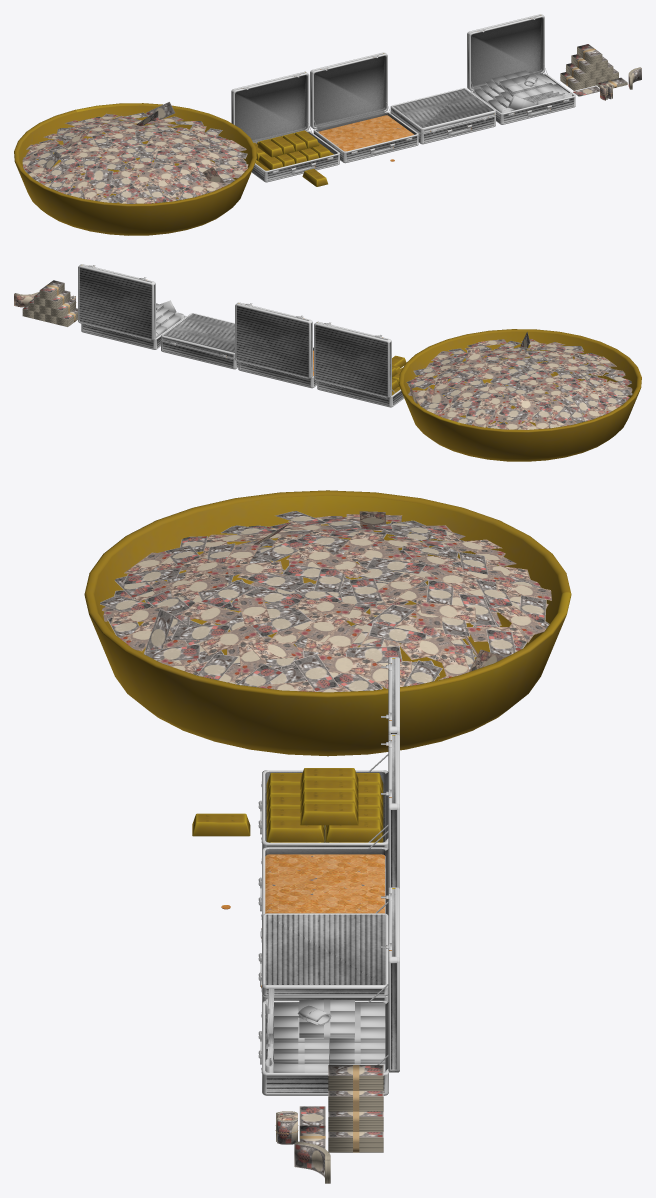
Rendered from Money mad.fbx.
The picture shows the model from 3 angles, top to bottom: view 1: azimuth 30°, elevation 25°; view 2: azimuth 150°, elevation 25°; view 3: azimuth 270°, elevation 25°; orthographic projection. The views are drawn at different scales.
Parts seen in each view (by area): view 1: Bath of bills, Case containing coins, Case containing bills, Case containing ingots, Case, Pile of bills; view 2: Bath of bills, Case containing bills, Case containing ingots, Case containing coins, Case, Pile of bills; view 3: Bath of bills, Case containing bills, Case, Case containing ingots, Case containing coins, Pile of bills, Gold ingot, Torch of bills.
Part boxes in pixels (x1,y1,x2,y2): Bath of bills: (14, 102, 256, 235); Case containing coins: (310, 52, 418, 163); Case containing bills: (467, 14, 575, 124); Case containing ingots: (231, 71, 339, 182); Case: (390, 88, 495, 144); Pile of bills: (560, 44, 618, 90); Bath of bills: (399, 329, 641, 461); Case containing bills: (78, 264, 186, 349); Case containing ingots: (314, 321, 404, 407); Case containing coins: (235, 302, 317, 388); Case: (161, 313, 238, 369); Pile of bills: (22, 280, 77, 326); Bath of bills: (84, 490, 571, 756); Case containing bills: (258, 887, 399, 1095); Case: (258, 913, 388, 1002); Case containing ingots: (258, 657, 399, 848); Case containing coins: (258, 734, 399, 919); Pile of bills: (328, 1065, 383, 1152); Gold ingot: (192, 813, 250, 836); Torch of bills: (294, 1141, 330, 1183).
Bounding box in the file's own units: 7.53 × 0.8633 × 2.6.
